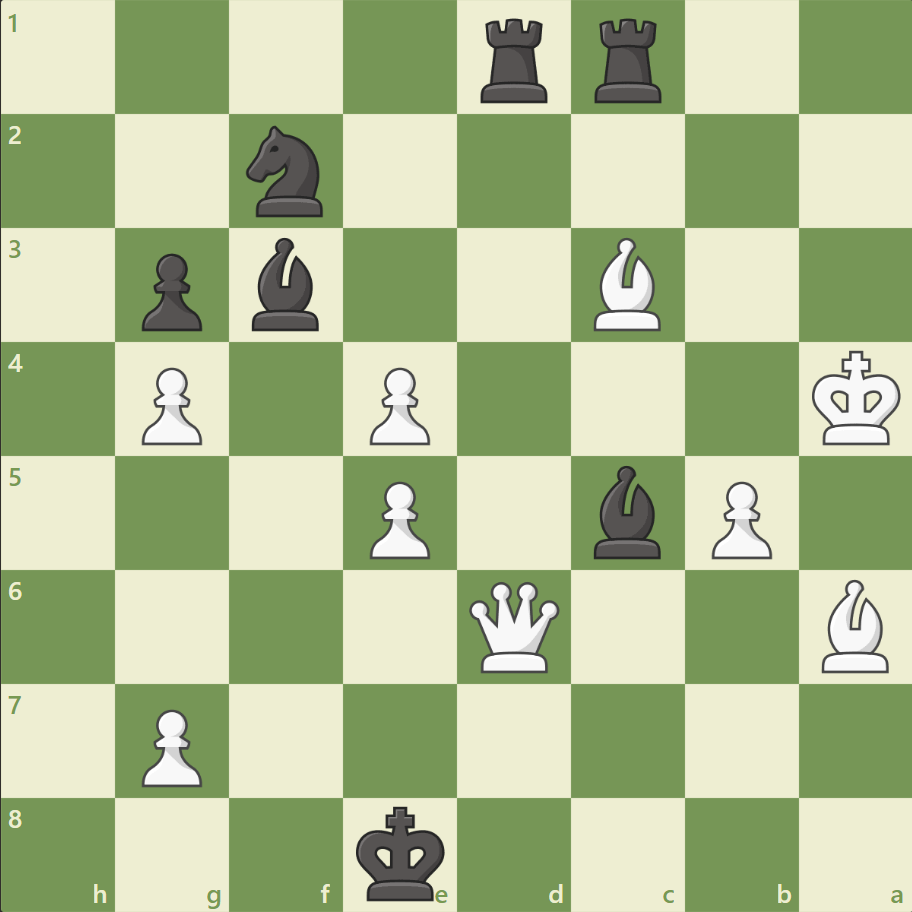B: (585, 233, 669, 336), (812, 574, 896, 676)
K: (806, 344, 906, 452)
P: (133, 700, 208, 791), (701, 473, 776, 564), (133, 359, 208, 450), (361, 473, 435, 564), (361, 359, 435, 450)
Q: (464, 576, 563, 676)
b: (585, 460, 669, 563), (244, 233, 328, 336)
k: (351, 798, 451, 906)
n: (238, 121, 335, 223)
p: (133, 246, 208, 337)
r: (587, 12, 670, 109), (473, 12, 556, 109)
